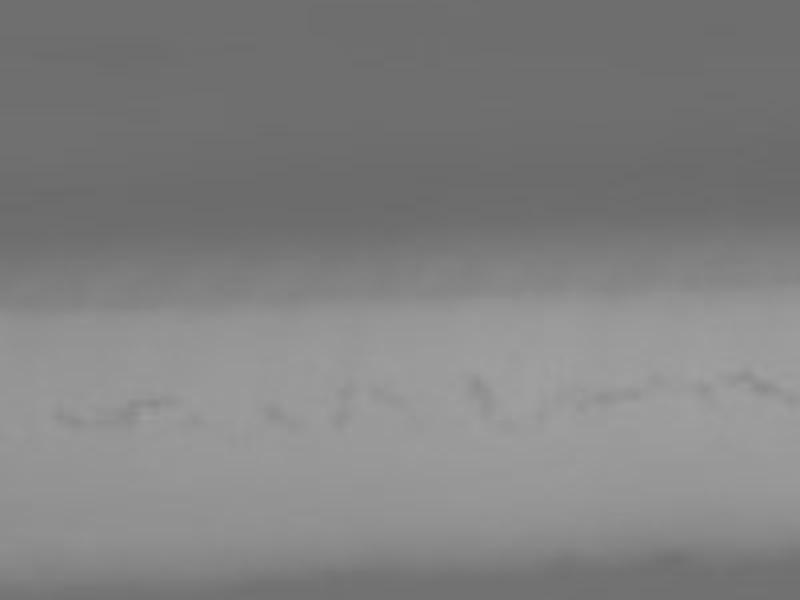defect: (724, 359, 788, 404), (54, 401, 121, 435), (463, 371, 496, 430), (589, 378, 646, 409), (366, 383, 413, 419), (260, 396, 302, 435), (330, 378, 358, 434), (118, 391, 183, 415), (528, 393, 556, 430), (496, 413, 518, 441), (184, 407, 209, 428), (688, 373, 711, 393)
